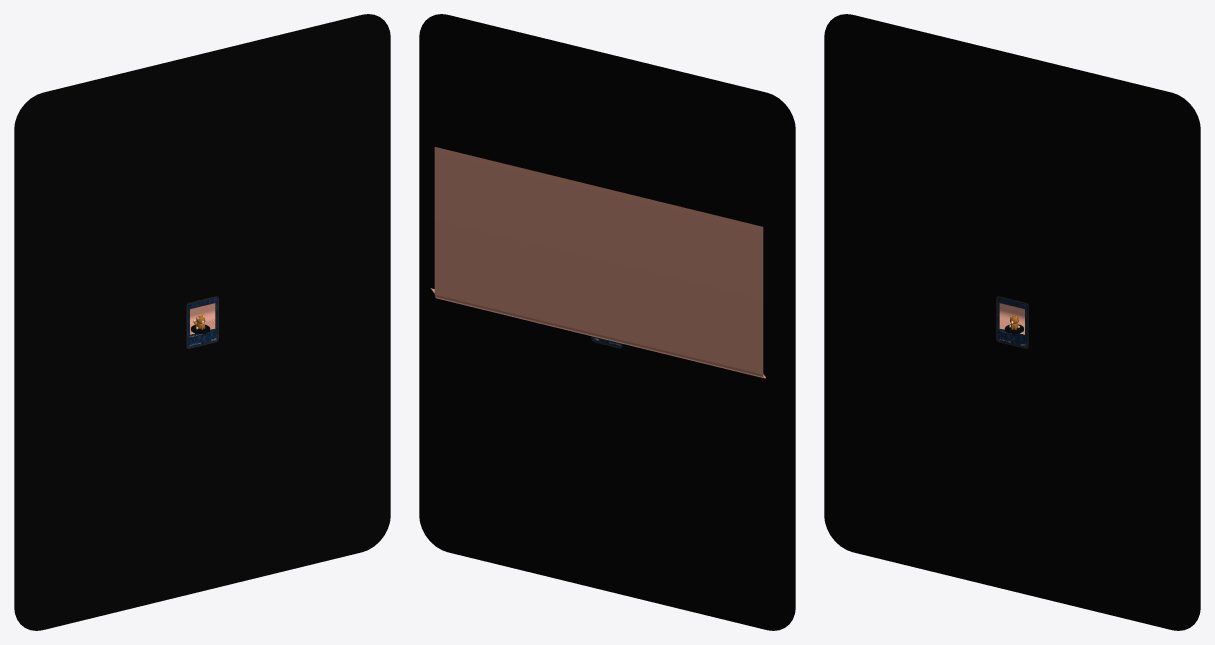
Rendered from holocard5.glb.
3 views of the same model, side by side, from view 1: azimuth 30°, elevation 25°; view 2: azimuth 150°, elevation 25°; view 3: azimuth 330°, elevation 25° (orthographic).
Parts seen in each view (by area): view 1: Holocard.001, Holocard; view 2: Holocard.001, Plane; view 3: Holocard.001, Holocard.
Part boxes in pixels (box(x1,y1,x2,y2)): Holocard.001: box(14, 14, 390, 630); Holocard: box(186, 296, 218, 348); Holocard.001: box(419, 14, 795, 630); Plane: box(430, 147, 765, 378); Holocard.001: box(824, 14, 1200, 630); Holocard: box(996, 296, 1028, 348).
Bounding box in the file's own units: 44.92 × 61.28 × 3.07.
12 materials, 1 textured.
